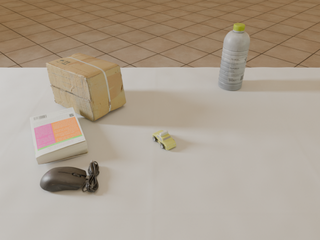book: (30, 107, 88, 164)
bottle: (218, 23, 250, 90)
box: (46, 53, 126, 121)
mouse: (40, 160, 99, 192)
toy_car: (152, 130, 176, 150)
